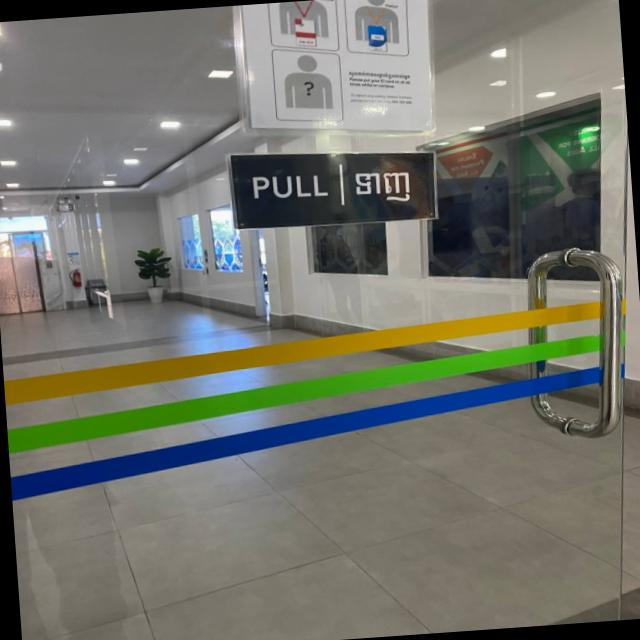Yolov11_80vkh: (344, 163, 418, 208)
